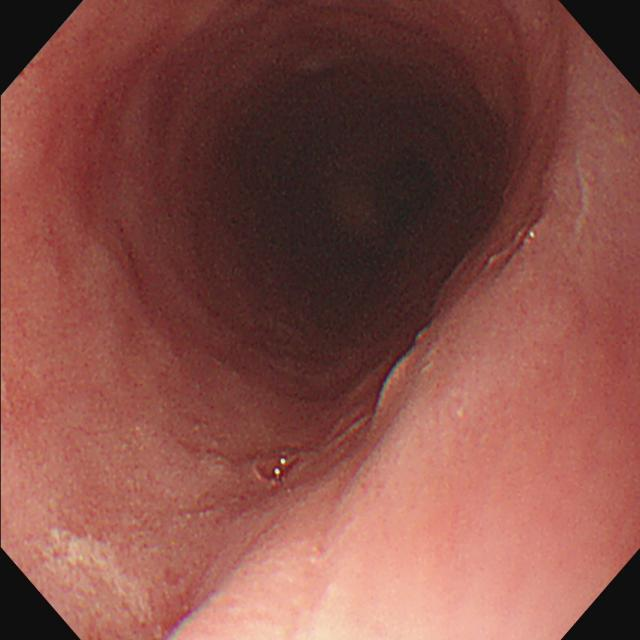E: (186, 33, 470, 339)
T: (252, 442, 301, 487)
